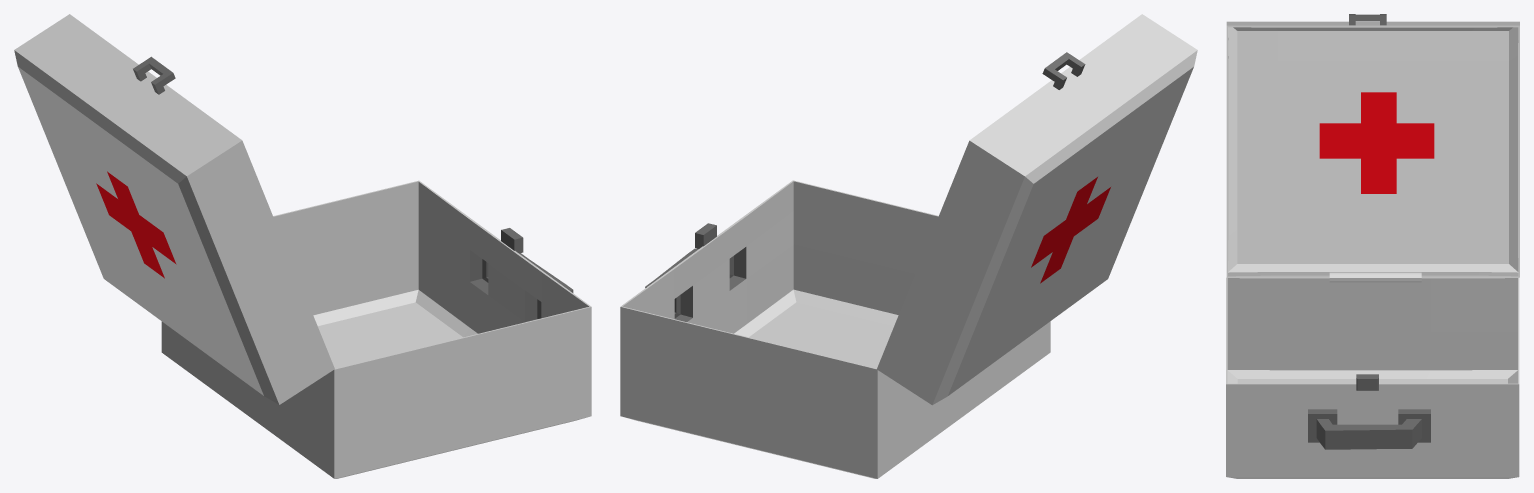
Rendered from Aptechka.fbx.
3 renders of one model, left to right at view 1: azimuth 30°, elevation 25°; view 2: azimuth 150°, elevation 25°; view 3: azimuth 270°, elevation 25°, orthographic. The views are drawn at different scales.
Parts seen in each view (by area): view 1: Cube, Cube.001; view 2: Cube, Cube.001; view 3: Cube.001, Cube, Cylinder, Cube.005.
Boxes of the visible parts, x1,y1,x2,y2 form: Cube: (161, 180, 591, 478); Cube.001: (14, 14, 334, 404); Cube: (620, 180, 1050, 478); Cube.001: (877, 14, 1197, 405); Cube.001: (1226, 21, 1519, 277); Cube: (1226, 277, 1519, 478); Cylinder: (1329, 272, 1421, 282); Cube.005: (1356, 374, 1378, 390).
Bounding box in the file's own units: 2203 × 1798 × 1475.
